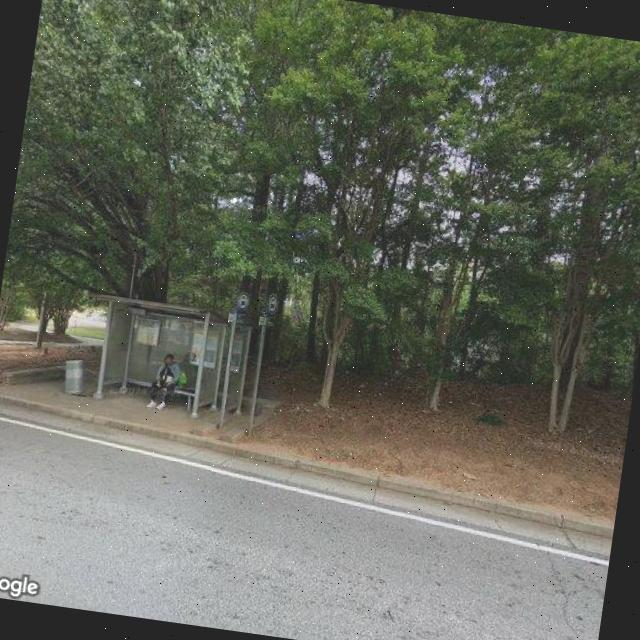seating: (157, 385, 196, 412)
shelter: (82, 294, 232, 424)
trash_can: (61, 358, 87, 398)
